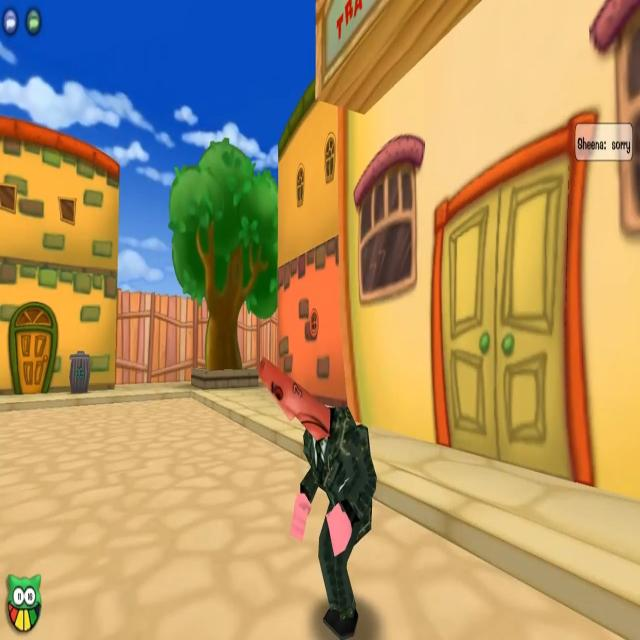pennypincher: (259, 363, 378, 640)
